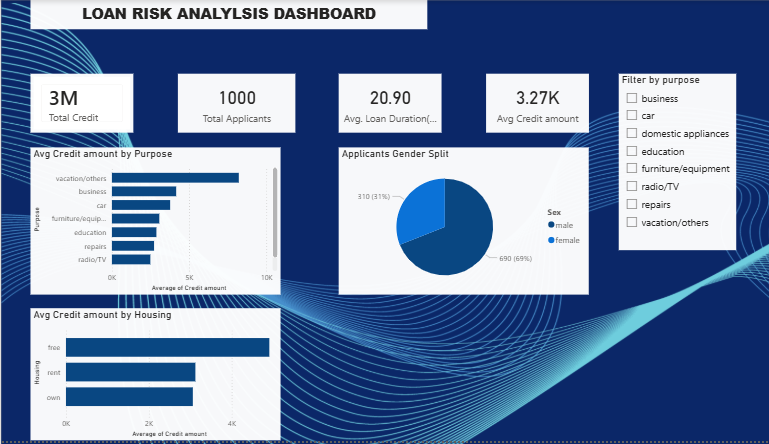

Layout of this report page (visuals, bound fields, positions):
{"tool":"powerbi","page":{"name":"Page 1","canvas":[1280,720],"ordinal":0},"visuals":[{"type":"cardVisual","fields":{"Data":["Sum(german_credit_data.Credit amount)"]},"box":[48,120,168,96],"z":0},{"type":"card","title":"Total Clients","fields":{"Values":["german_credit_data.count_column1"]},"box":[288,120,192,96],"z":1000},{"type":"card","fields":{"Values":["Avg(german_credit_data.Avg.Duration(Months))"]},"box":[552,120,168,96],"z":2000},{"type":"card","fields":{"Values":["Avg(german_credit_data.Credit amount)"]},"box":[792,120,168,96],"z":3000},{"type":"clusteredBarChart","title":"Avg Credit amount by Purpose","fields":{"Category":["german_credit_data.Purpose"],"Y":["Avg(german_credit_data.Credit amount)"]},"box":[48,240,408,240],"z":4000},{"type":"pieChart","title":"Applicants Gender Split","fields":{"Category":["german_credit_data.Sex"],"Y":["CountNonNull(german_credit_data.Credit amount)"]},"box":[552,240,408,240],"z":5000},{"type":"clusteredBarChart","title":"Avg Credit amount by Housing","fields":{"Category":["german_credit_data.Housing"],"Y":["Avg(german_credit_data.Credit amount)"]},"box":[48,504,408,216],"z":6000},{"type":"slicer","title":"Filter by purpose ","fields":{"Values":["german_credit_data.Purpose"]},"box":[1008,120,192,288],"z":7000},{"type":"textbox","box":[48,0,648,48],"z":8000}]}

Visuals, with their boxes in screenshot pixels (x1, y1, x2, y2), scaled from the page's 1280x720 canvas onto the 769x444 screenshot:
cardVisual - Sum(german_credit_data.Credit amount): select_region(29, 74, 130, 133)
"Total Clients" card: select_region(173, 74, 288, 133)
card - Avg(german_credit_data.Avg.Duration(Months)): select_region(332, 74, 433, 133)
card - Avg(german_credit_data.Credit amount): select_region(476, 74, 577, 133)
"Avg Credit amount by Purpose" clusteredBarChart: select_region(29, 148, 274, 296)
"Applicants Gender Split" pieChart: select_region(332, 148, 577, 296)
"Avg Credit amount by Housing" clusteredBarChart: select_region(29, 311, 274, 443)
"Filter by purpose " slicer: select_region(606, 74, 721, 252)
textbox: select_region(29, 0, 418, 30)
